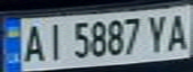5: (66, 18, 90, 61)
7: (121, 15, 145, 55)
8: (87, 18, 109, 57), (106, 16, 127, 56)
A: (18, 20, 48, 64), (163, 10, 193, 53)
I: (42, 19, 69, 63)
Y: (142, 11, 172, 53)
